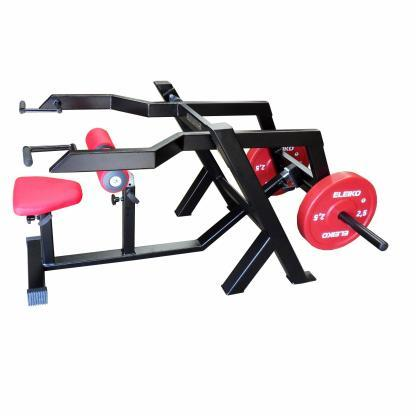seated dip machine: (14, 80, 388, 306)
